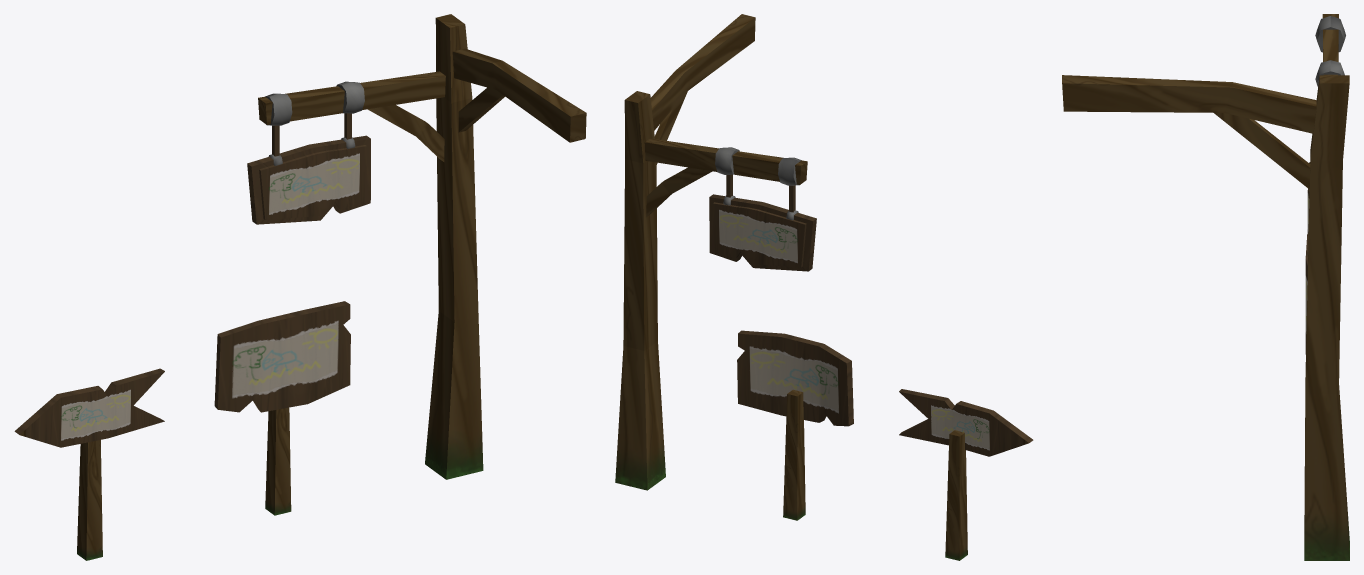
File: signs.fbx
The picture shows the model from 3 angles, left to right: view 1: azimuth 30°, elevation 25°; view 2: azimuth 150°, elevation 25°; view 3: azimuth 270°, elevation 25°; orthographic projection. The views are drawn at different scales.
Visible parts, largest first — view 1: sign_arrow, sign_arrow.002, sign_arrow.001; view 2: sign_arrow, sign_arrow.002, sign_arrow.001; view 3: sign_arrow, sign_wall.005.
Boxes of the visible parts, x1,y1,x2,y2 form: sign_arrow: (247, 14, 586, 479); sign_arrow.002: (214, 301, 350, 515); sign_arrow.001: (14, 368, 164, 560); sign_arrow: (615, 14, 816, 490); sign_arrow.002: (737, 330, 853, 520); sign_arrow.001: (899, 389, 1033, 560); sign_arrow: (1062, 14, 1349, 560); sign_wall.005: (1315, 16, 1345, 52).
Size of the model in its own units: 218 by 200 by 110.
